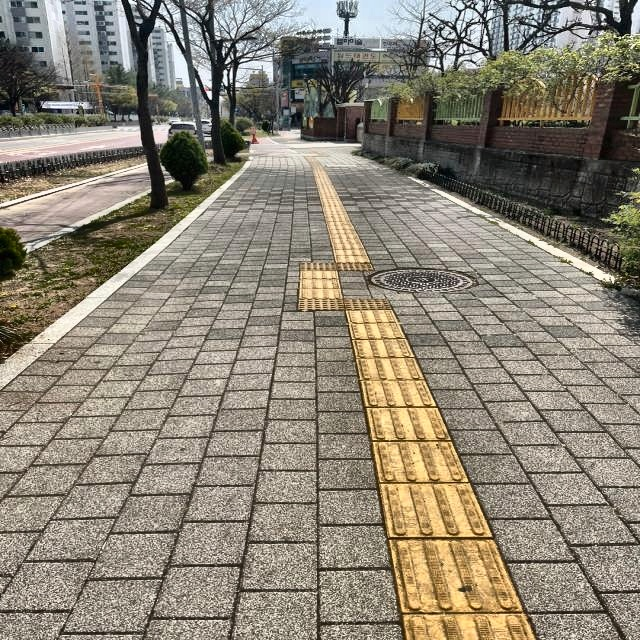Sewer Cover: (368, 261, 496, 302)
